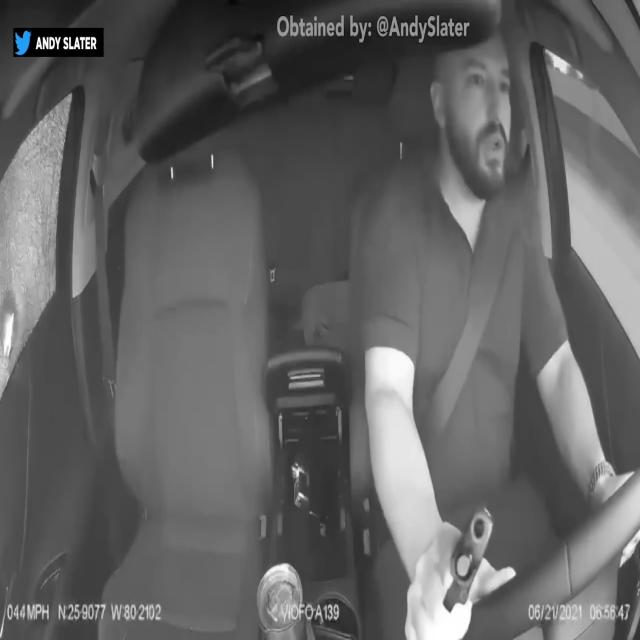senjata_api: (442, 501, 495, 613)
